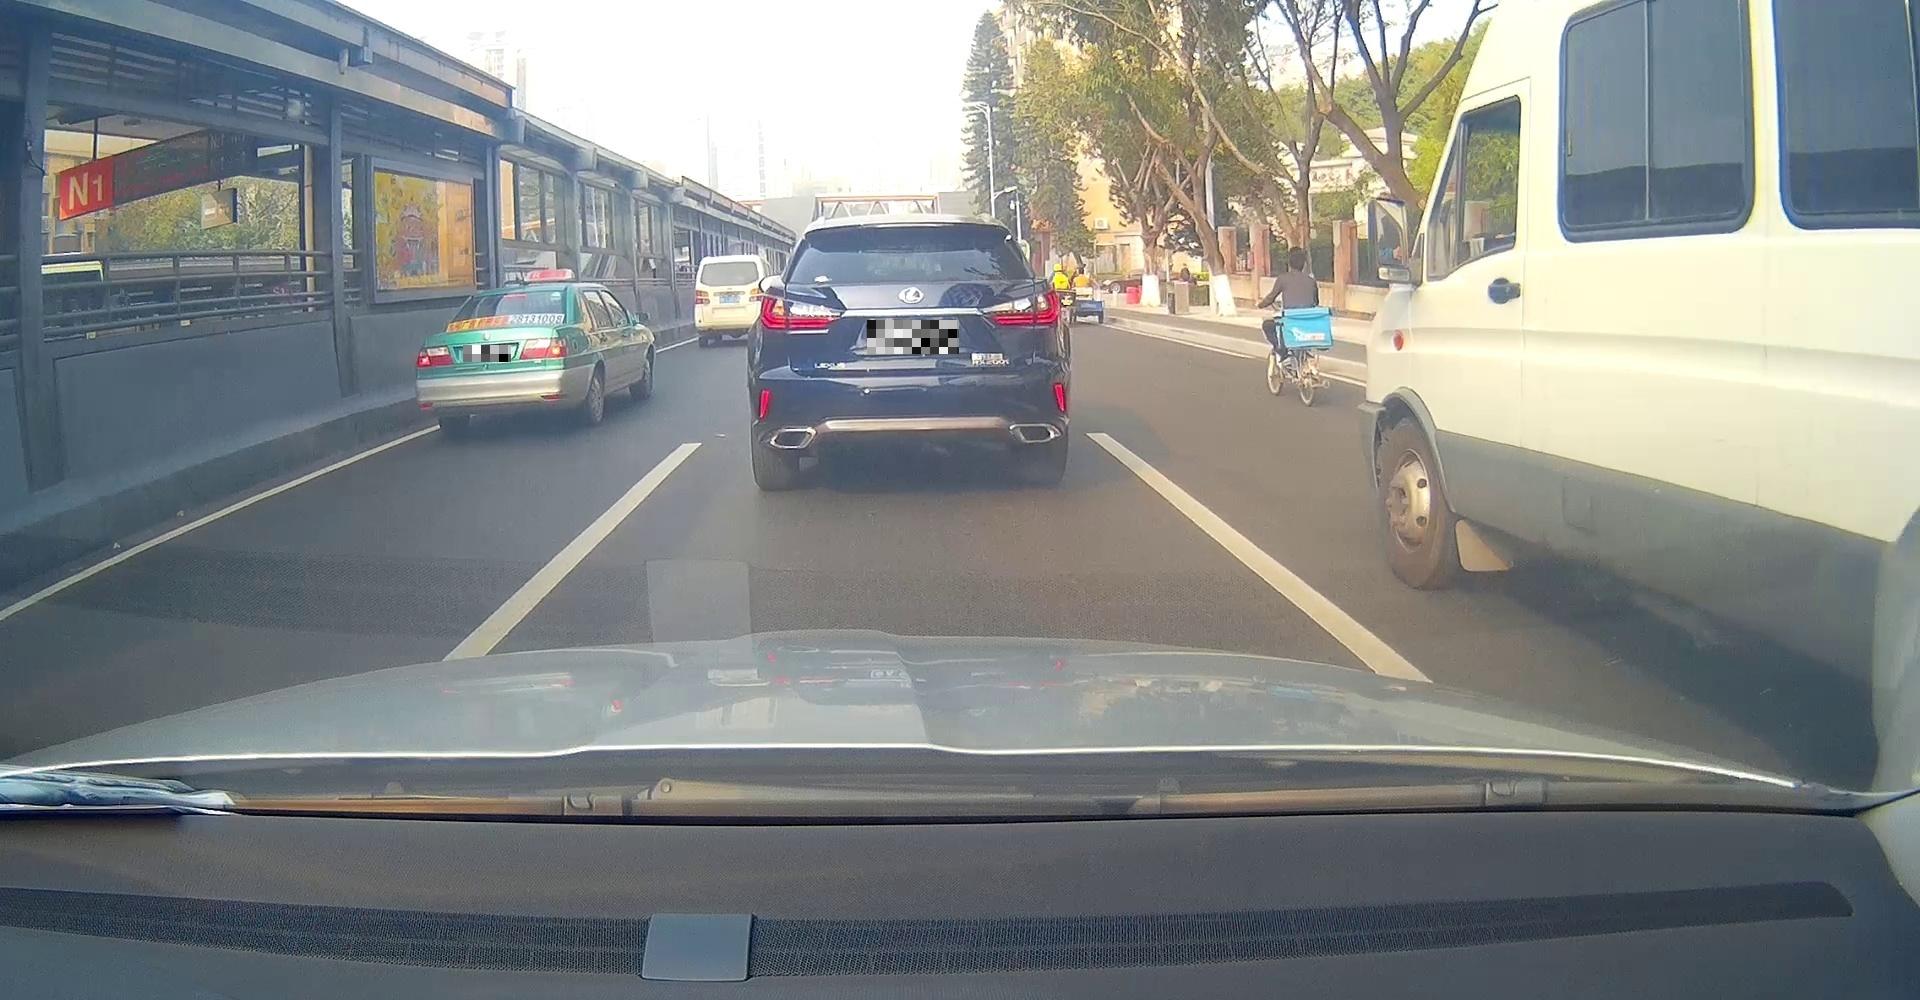L_light: (759, 291, 844, 335), (417, 344, 455, 369)
R_light: (980, 287, 1063, 326), (519, 336, 569, 360)
T_light: (874, 223, 940, 232), (503, 293, 526, 298)
day-brake: (413, 282, 577, 430)
day-no: (744, 211, 1070, 492)
plate_1: (463, 345, 510, 362)
plate_2: (867, 320, 959, 354)
